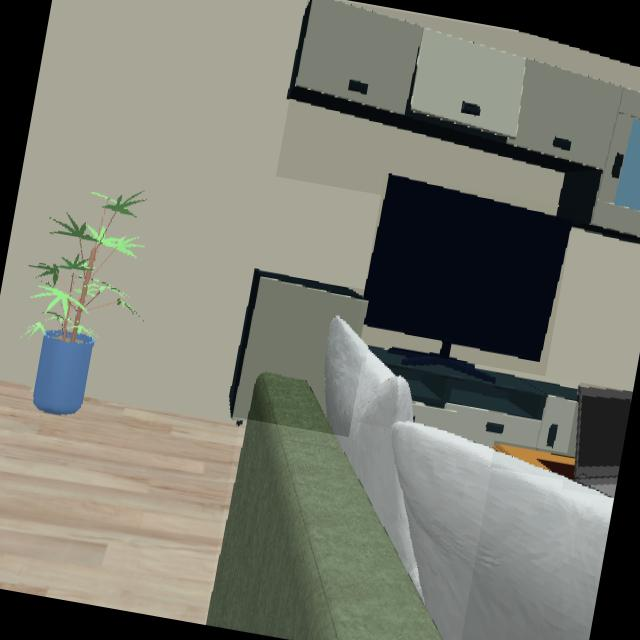cabinet: (291, 0, 640, 239), (369, 347, 576, 455), (230, 271, 367, 419)
laptop: (574, 387, 632, 498)
monitor: (362, 175, 572, 384)
pillow: (322, 318, 613, 640)
sofa: (204, 374, 442, 640)
table: (494, 442, 578, 481)
